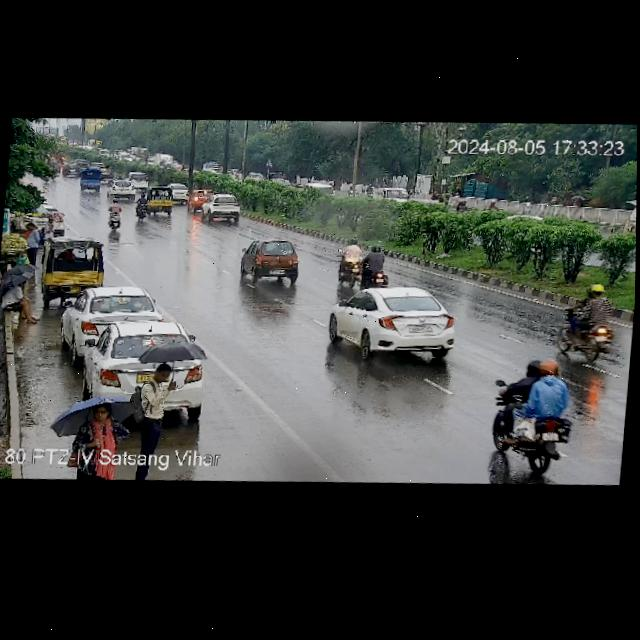car: (90, 318, 214, 421), (332, 280, 464, 364), (61, 280, 160, 347), (41, 235, 109, 299), (235, 236, 303, 287), (134, 185, 178, 219), (199, 193, 243, 224), (289, 177, 337, 203), (183, 187, 217, 214), (77, 164, 108, 192), (109, 178, 141, 202), (380, 184, 409, 207), (196, 161, 225, 179), (167, 183, 192, 203)
motorcycle: (558, 287, 620, 365), (334, 239, 395, 292), (105, 201, 124, 232), (134, 199, 152, 220)
person: (126, 358, 176, 452), (523, 359, 573, 434), (70, 400, 126, 456), (0, 281, 38, 325), (19, 220, 45, 264)
